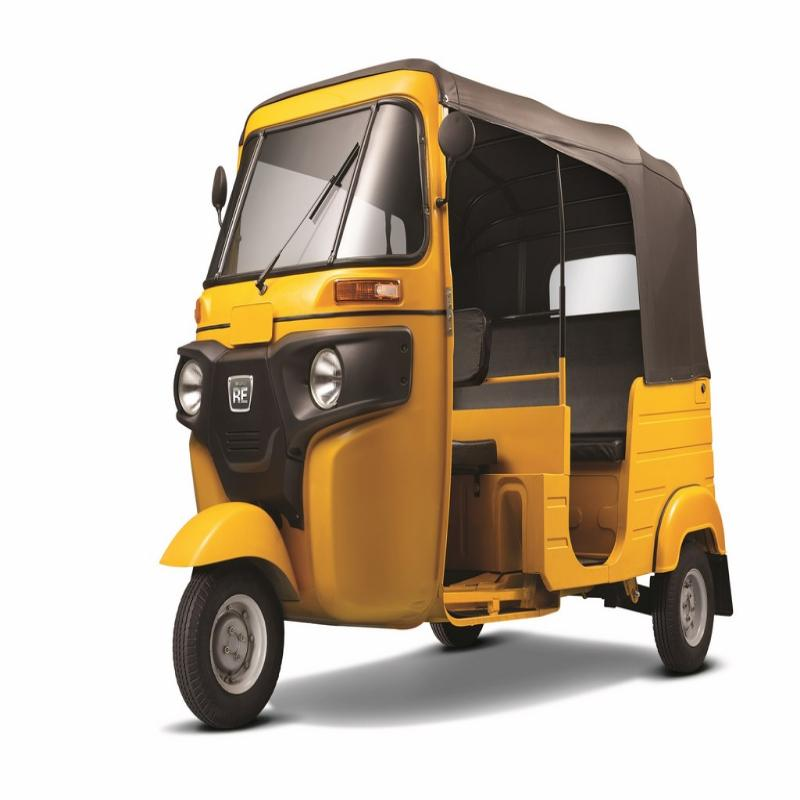bike: (173, 72, 737, 690)
